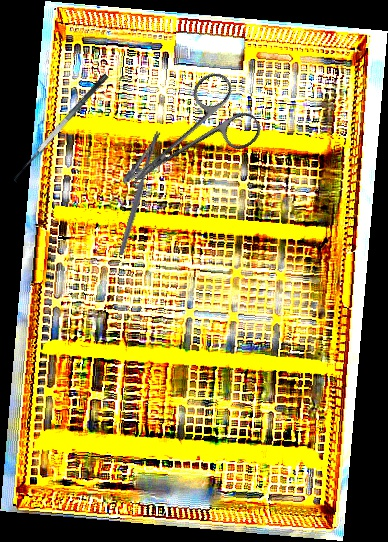Iris Scissors: (105, 66, 266, 214)
Needle Holder: (101, 125, 162, 256)
Spatula Surgical: (8, 72, 118, 189)
